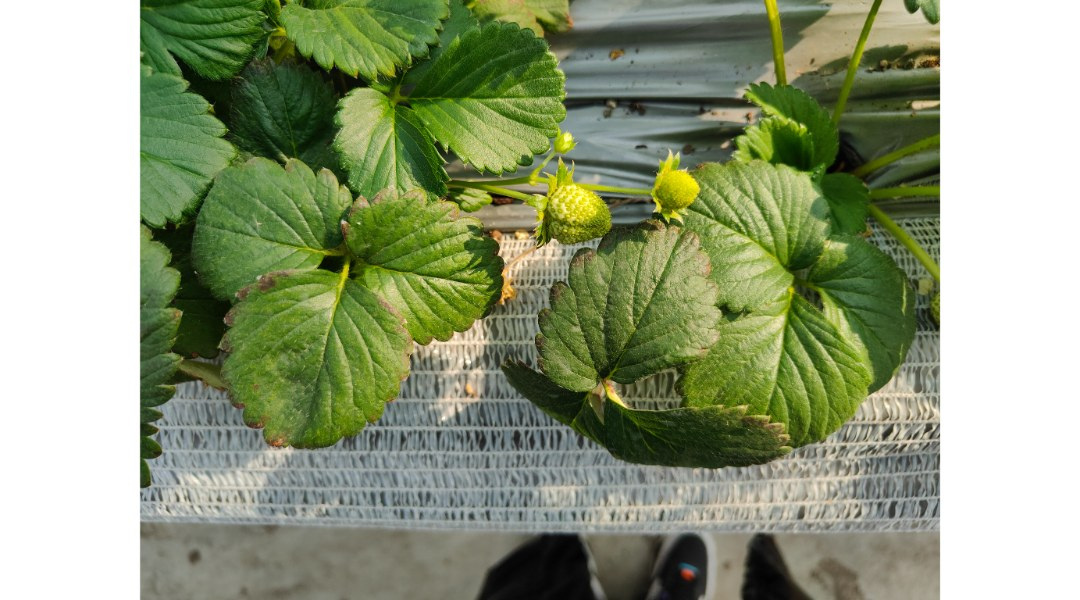berry: (535, 164, 624, 263), (647, 150, 701, 221)
strain: (579, 176, 651, 201), (445, 170, 532, 188), (478, 183, 535, 210)
